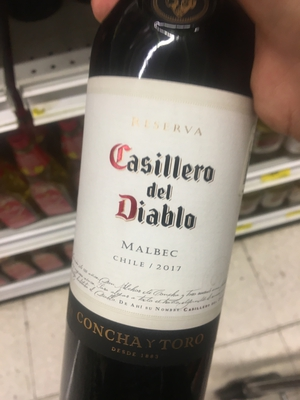casillero del diablo malbec: (58, 10, 261, 392)
